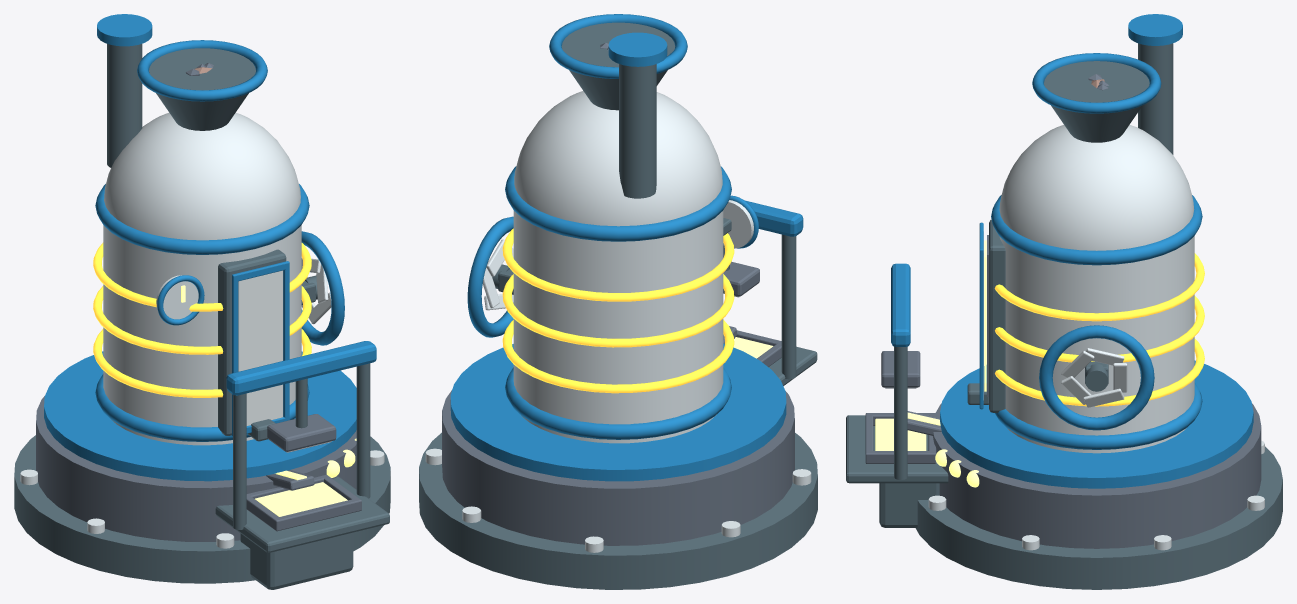
The model's file is IronSmelter.fbx.
The picture shows the model from 3 angles, left to right: view 1: azimuth 30°, elevation 25°; view 2: azimuth 150°, elevation 25°; view 3: azimuth 270°, elevation 25°; orthographic projection. The views are drawn at different scales.
Parts seen in each view (by area): view 1: MachineBody, Base, HeatCoil, Stamp, MouldFill, Fan; view 2: MachineBody, Base, HeatCoil, Fan, Stamp; view 3: MachineBody, Base, HeatCoil, Fan, MouldFill, Stamp.
Boxes of the visible parts, left/top/right/bottom form: MachineBody: left=95, top=14, right=376, bottom=529; Base: left=14, top=351, right=390, bottom=589; HeatCoil: left=93, top=242, right=311, bottom=397; Stamp: left=267, top=378, right=336, bottom=452; MouldFill: left=255, top=482, right=347, bottom=516; Fan: left=301, top=258, right=331, bottom=324; MachineBody: left=467, top=14, right=803, bottom=443; Base: left=419, top=324, right=817, bottom=589; HeatCoil: left=502, top=228, right=734, bottom=393; Fan: left=482, top=239, right=513, bottom=310; Stamp: left=723, top=245, right=759, bottom=297; MachineBody: left=891, top=14, right=1202, bottom=479; Base: left=846, top=360, right=1282, bottom=589; HeatCoil: left=994, top=253, right=1204, bottom=406; Fan: left=1061, top=348, right=1127, bottom=407; MouldFill: left=875, top=418, right=926, bottom=450; Stamp: left=881, top=351, right=920, bottom=388.
Bounding box in the file's own units: 1.9 × 2.61 × 2.23.
